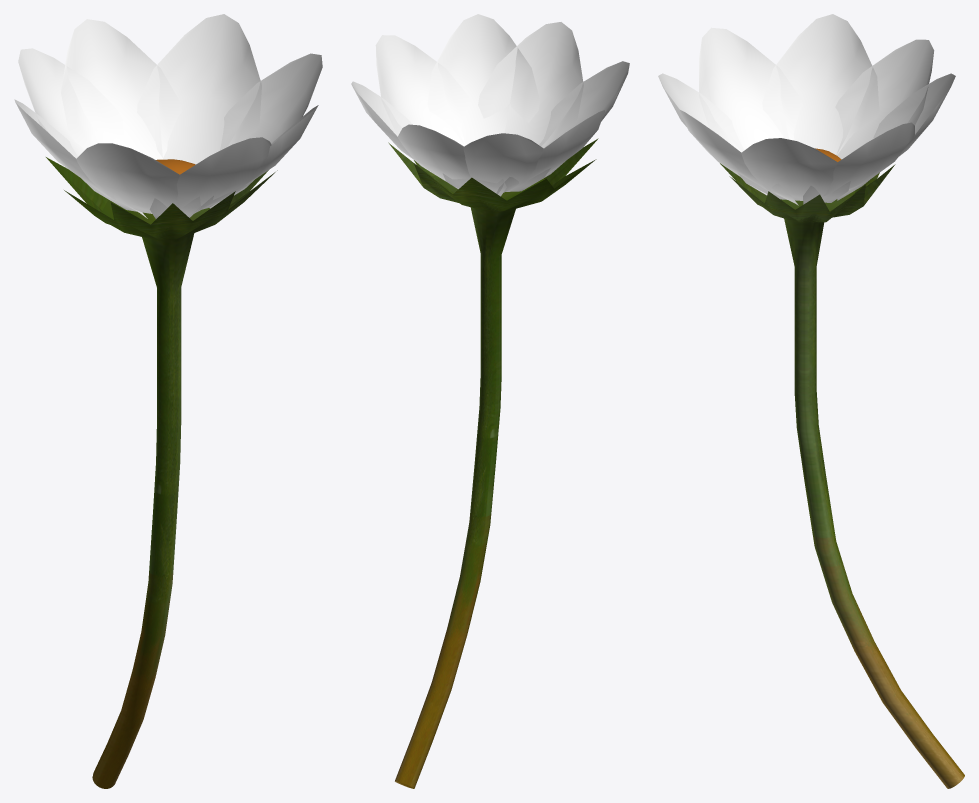
Rendered from flower_01.DAE.
3 views of the same model, side by side, from view 1: azimuth 30°, elevation 25°; view 2: azimuth 150°, elevation 25°; view 3: azimuth 270°, elevation 25° (orthographic). The views are drawn at different scales.
Visible parts, largest first — view 1: Plane07, Loft06; view 2: Plane07, Loft06; view 3: Plane07, Loft06.
Boxes of the visible parts, x1,y1,x2,y2 form: Plane07: (14,14,322,218); Loft06: (46,157,277,788); Plane07: (351,14,629,196); Loft06: (388,138,598,788); Plane07: (658,14,955,205); Loft06: (720,163,964,788).
Bounding box in the file's own units: 58.89 × 61.61 × 156.
3 materials, 1 textured.
